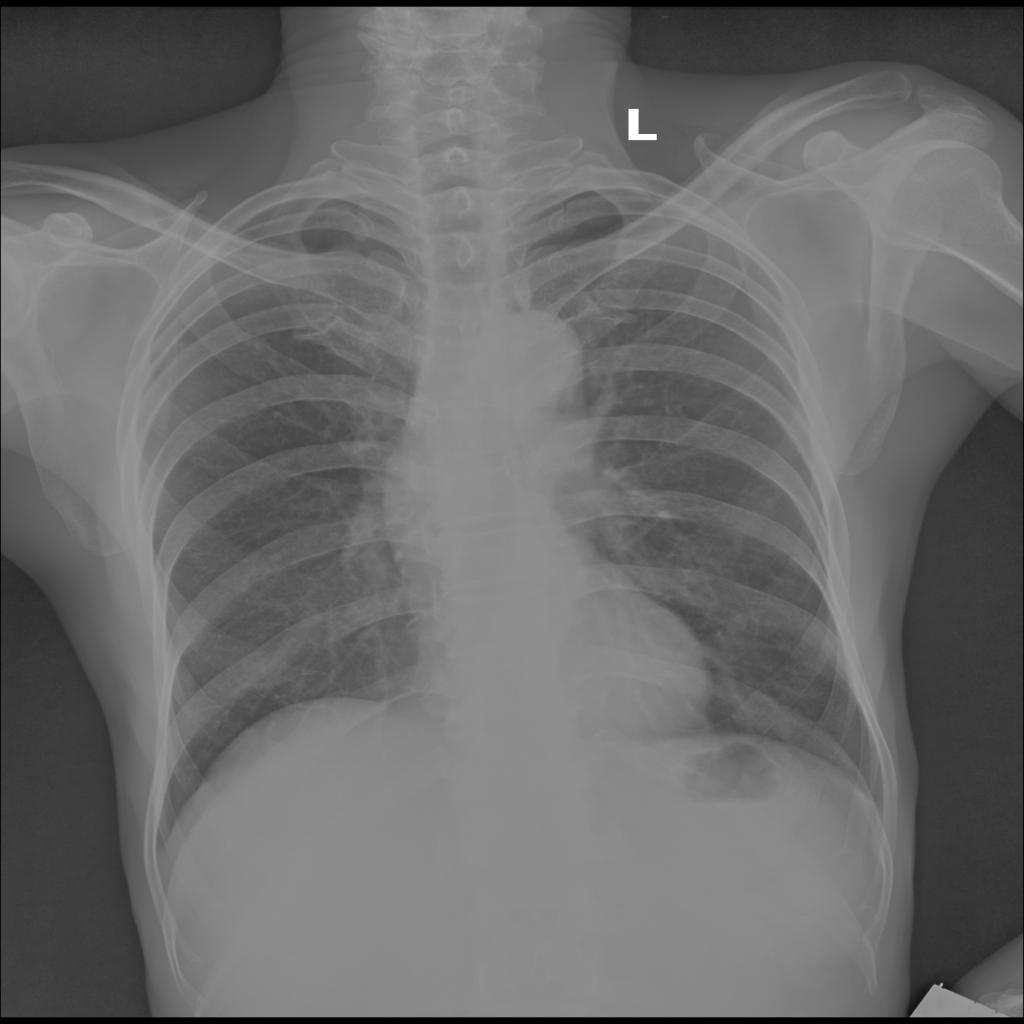Nodule: (722, 615, 748, 636)
